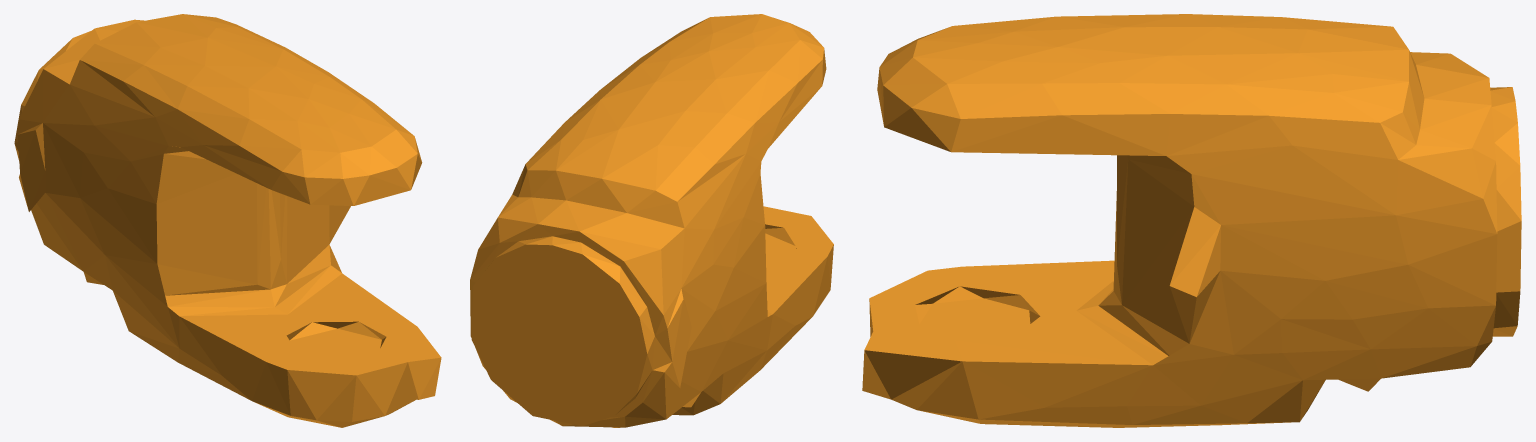
Rendered from KukaKR6R700CRLink4.dae.
3 views of the same model, side by side, from view 1: azimuth 30°, elevation 25°; view 2: azimuth 150°, elevation 25°; view 3: azimuth 270°, elevation 25° (orthographic). The views are drawn at different scales.
Visible parts, largest first — view 1: KukaKR6R700CRLink4; view 2: KukaKR6R700CRLink4; view 3: KukaKR6R700CRLink4.
Part boxes in pixels (x1=…): KukaKR6R700CRLink4: x1=14, y1=14, x2=441, y2=427; KukaKR6R700CRLink4: x1=470, y1=14, x2=833, y2=427; KukaKR6R700CRLink4: x1=862, y1=14, x2=1521, y2=427.
Bounding box in the file's own units: 0.1316 × 0.2645 × 0.1596.
